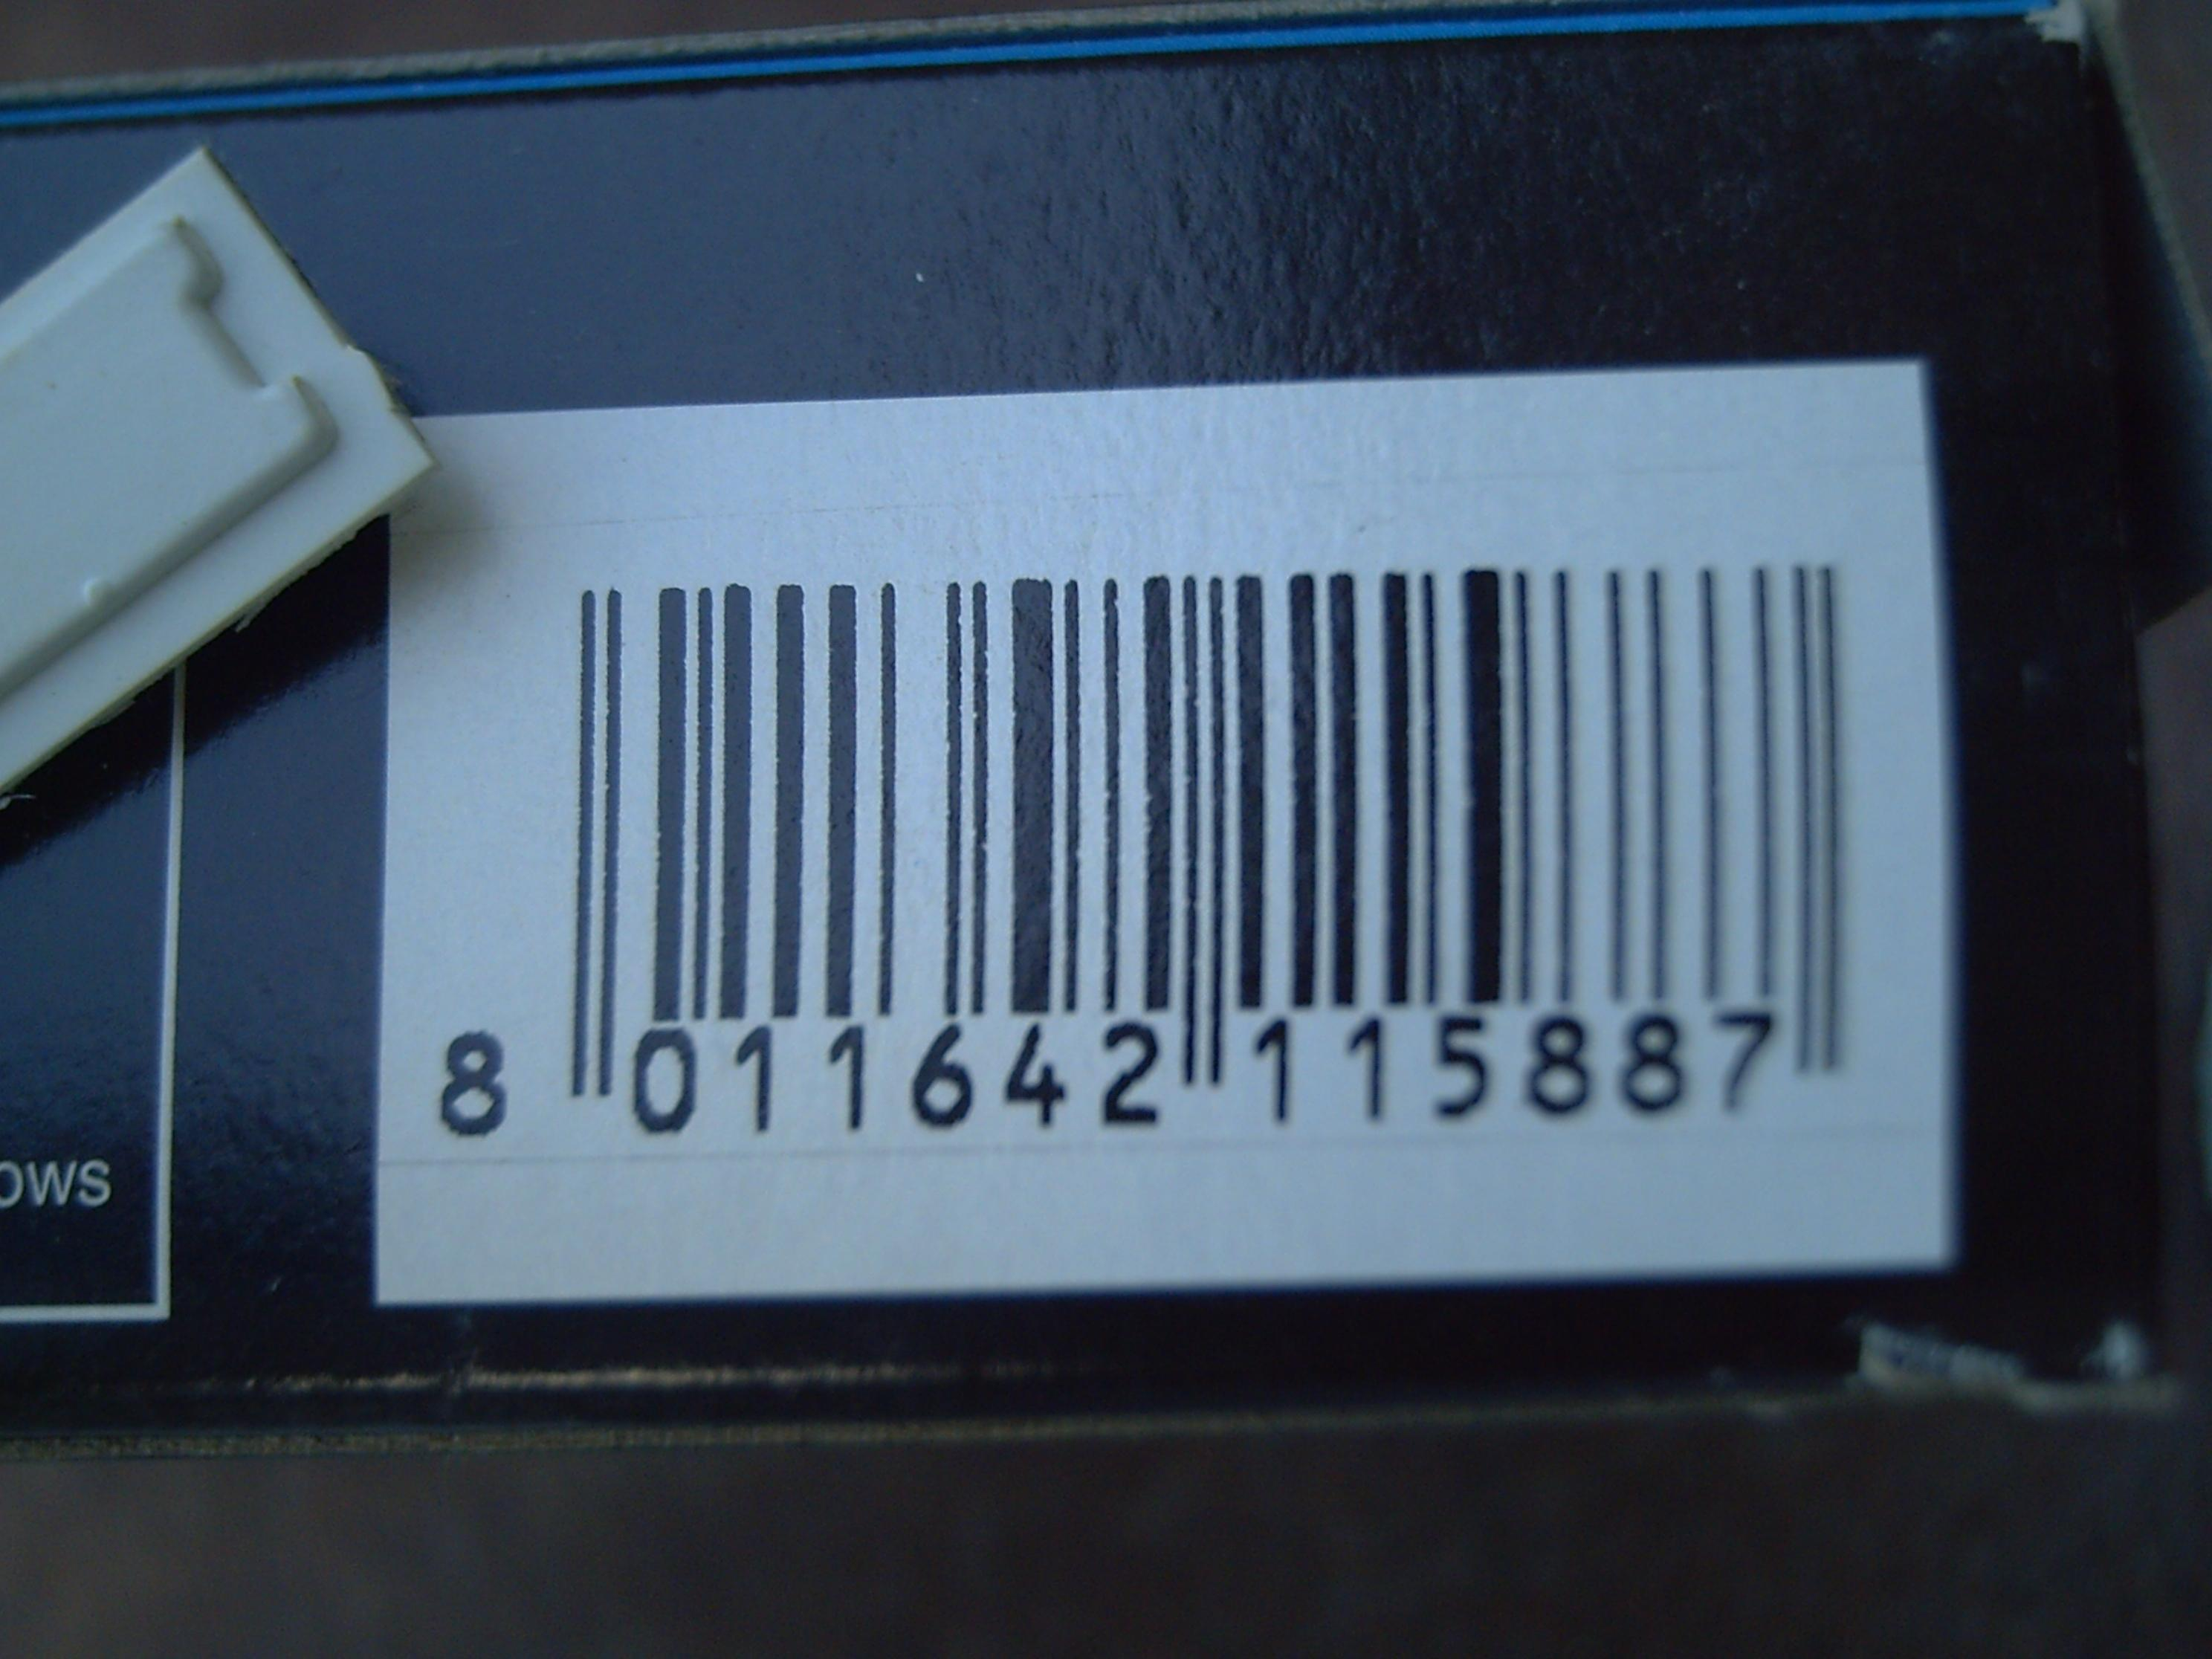barcode: (376, 467, 1940, 1161)
